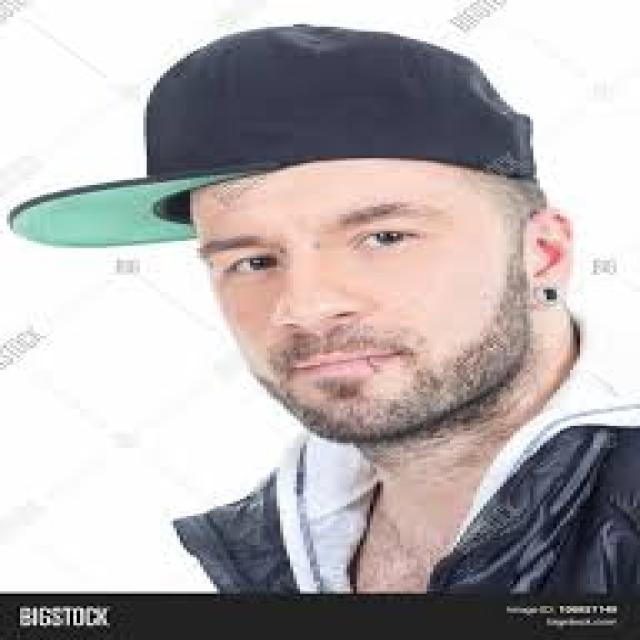3_gorra: (10, 22, 539, 246)
